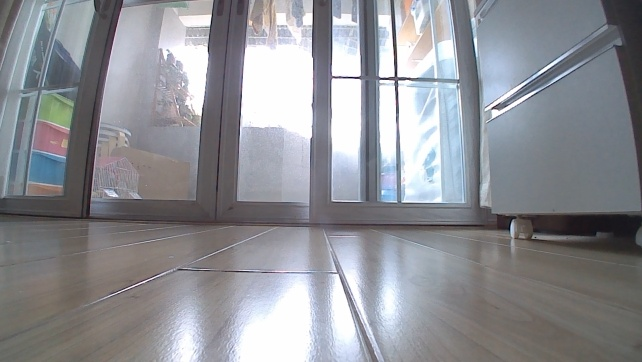refrigerator: (470, 0, 641, 240)
